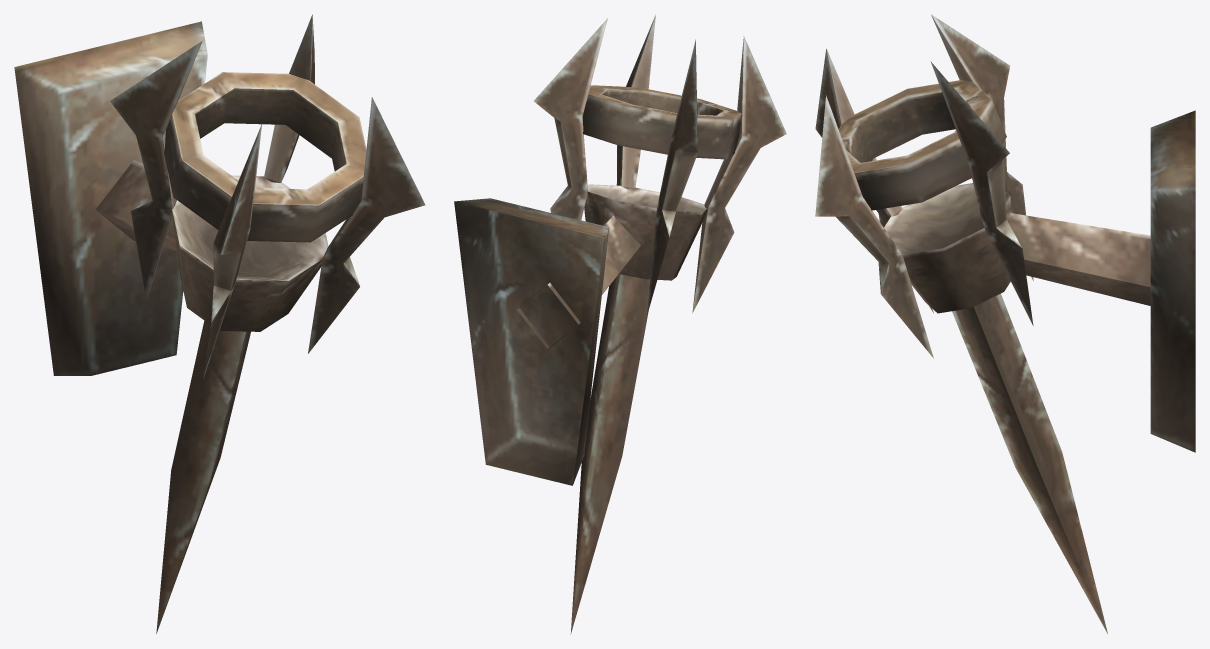
Rendered from Torch_01.FBX.
The picture shows the model from 3 angles, left to right: view 1: azimuth 30°, elevation 25°; view 2: azimuth 150°, elevation 25°; view 3: azimuth 270°, elevation 25°; orthographic projection. The views are drawn at different scales.
Parts seen in each view (by area): view 1: Torch_01; view 2: Torch_01; view 3: Torch_01.
Part boxes in pixels (x1,y1,x2,y2): Torch_01: (14, 14, 425, 633); Torch_01: (454, 14, 786, 634); Torch_01: (815, 14, 1195, 633).
Bounding box in the file's own units: 37.55 × 68.91 × 119.
